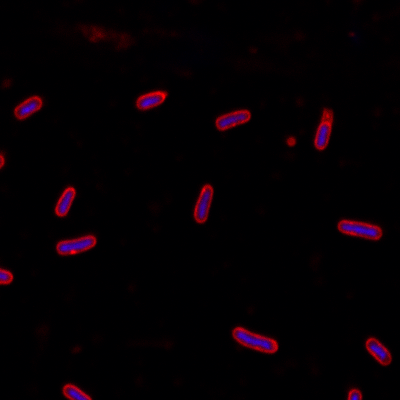Oblique: (310, 105, 338, 152)
Rifampicin: (229, 324, 280, 355), (336, 217, 384, 242), (54, 234, 97, 257), (364, 335, 393, 367), (190, 185, 214, 223), (213, 108, 252, 131), (11, 94, 43, 120), (134, 88, 169, 111), (54, 185, 77, 217)
Vesicle: (285, 133, 298, 149)
